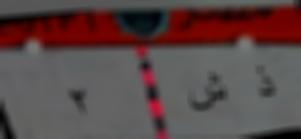2: (58, 80, 97, 120)
sheen: (187, 70, 232, 119)
zaal: (247, 60, 283, 106)
